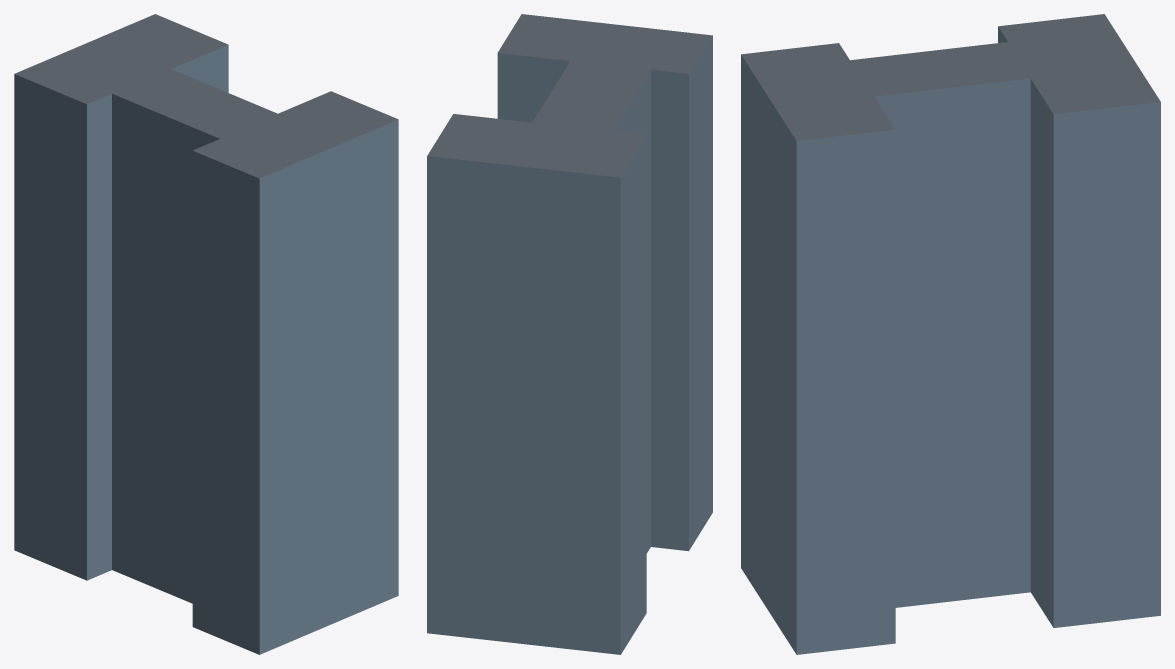
3 renders of one model, left to right at view 1: azimuth 30°, elevation 25°; view 2: azimuth 150°, elevation 25°; view 3: azimuth 270°, elevation 25°, orthographic. The views are drawn at different scales.
Parts seen in each view (by area): view 1: HP-w325216963; view 2: HP-w325216963; view 3: HP-w325216963.
Part boxes in pixels (x1,y1,x2,y2): HP-w325216963: (14, 14, 398, 654); HP-w325216963: (427, 14, 712, 654); HP-w325216963: (741, 14, 1160, 654).
Size of the model in its own units: 70.62 by 133 by 98.52.
